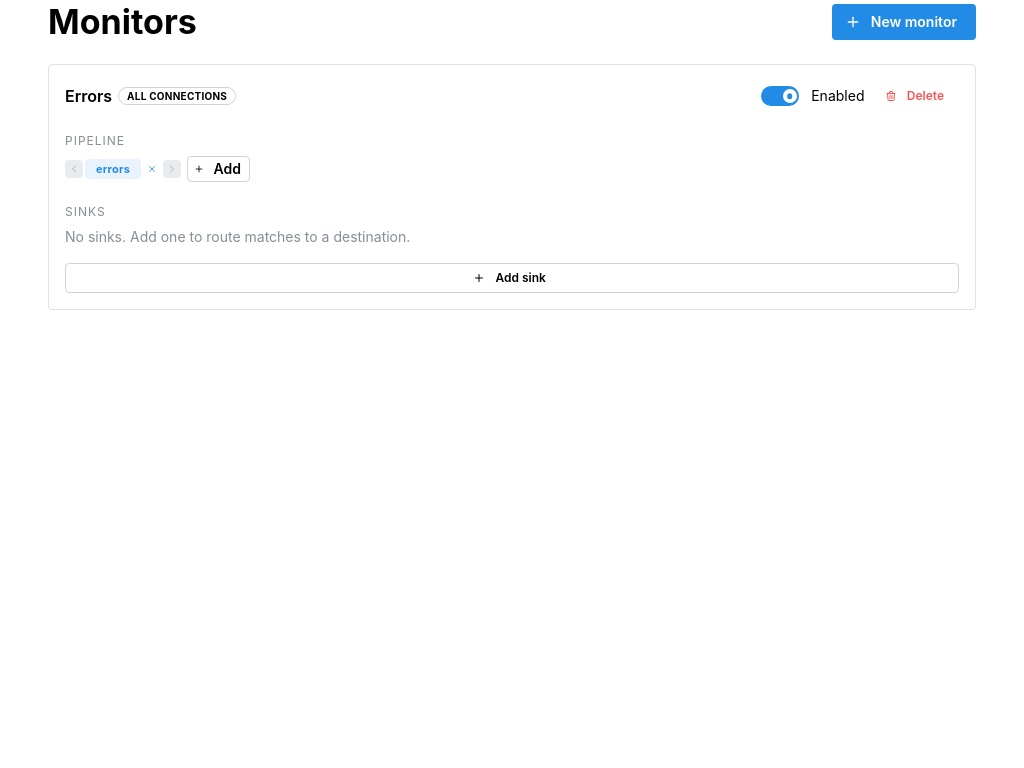
adds a sink to the selected monitor and removes it with refreshed routing state
This screenshot has width=1024, height=768.
Click the button "Add sink".
click(512, 278)  # box [65,263,959,293]
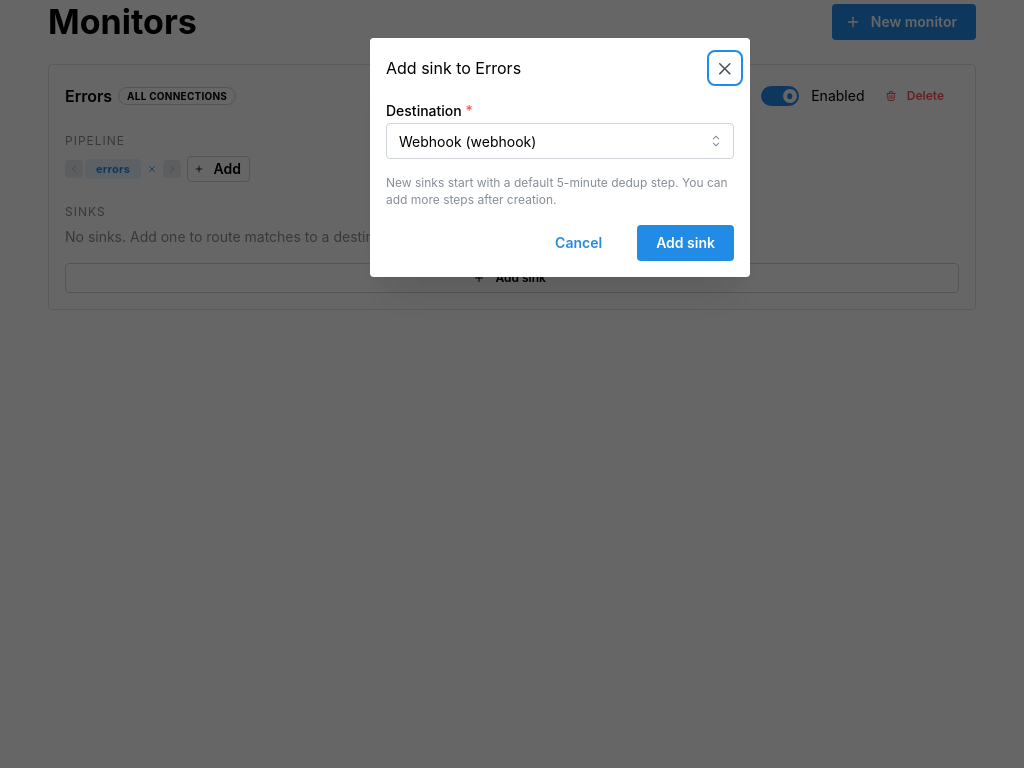
Check: the field labelled "Destination" holds "Webhook (webhook)", box [386,123,734,159]
Click the button "Add sink".
click(686, 243)  # box [637,225,734,261]
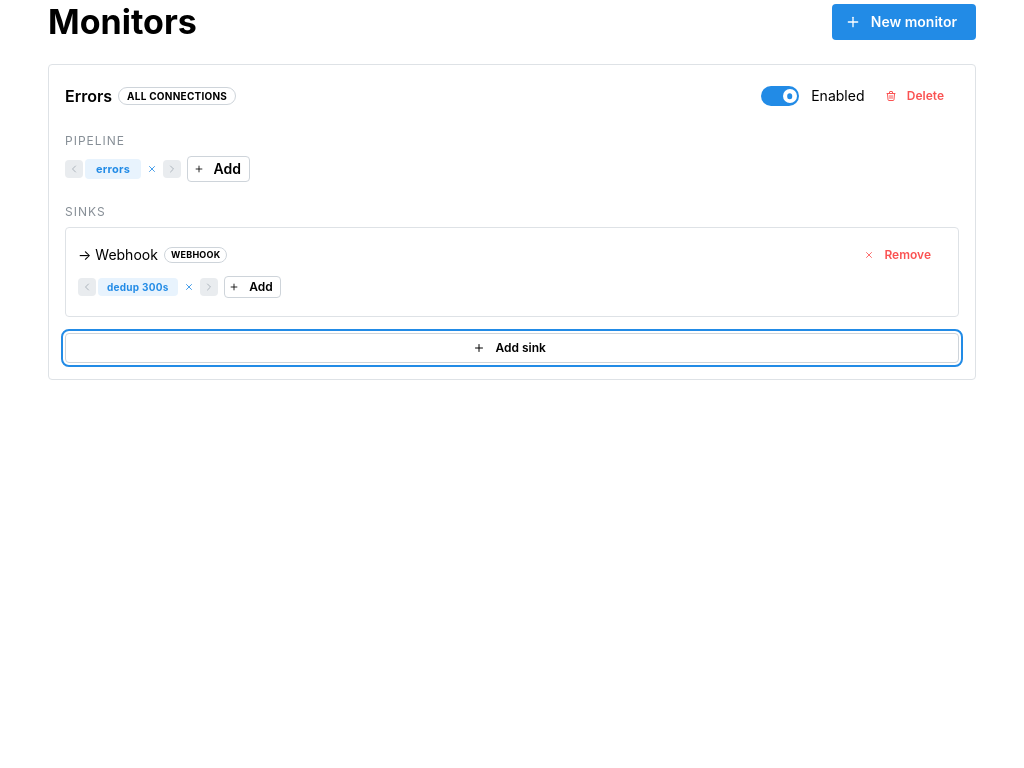
Check: the dialog is gone
Click the button "Remove".
click(900, 255)  # box [854,240,946,270]
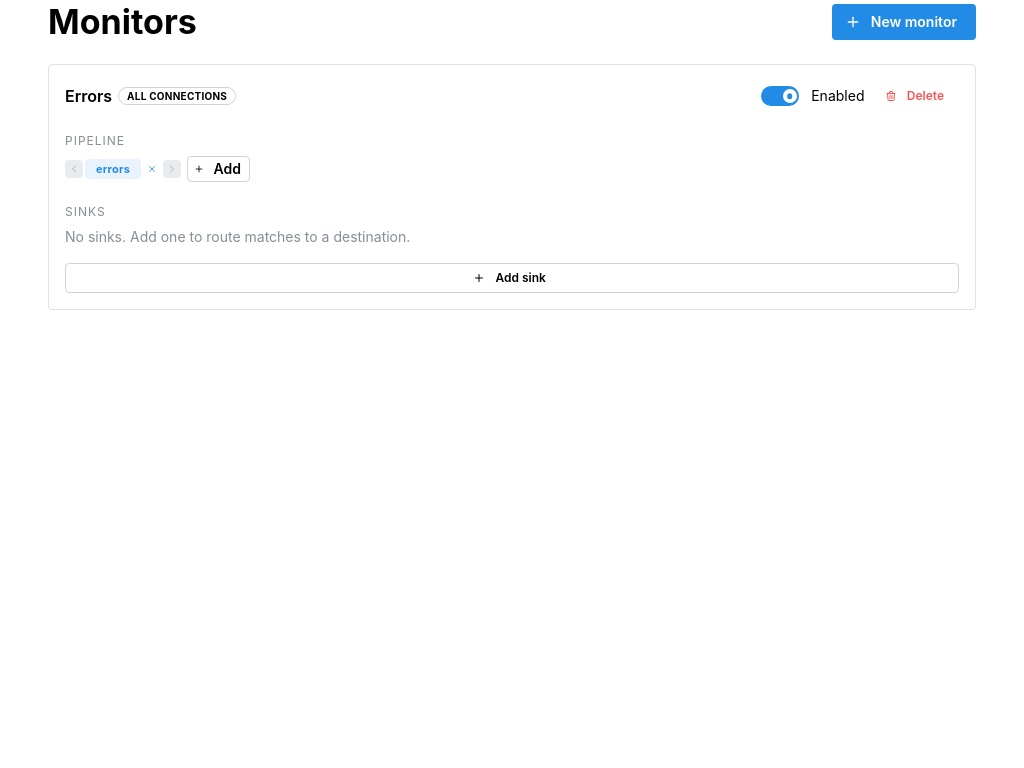
Check: the text "No sinks. Add one to route matches to a destination." is shown, box [65,228,410,245]
